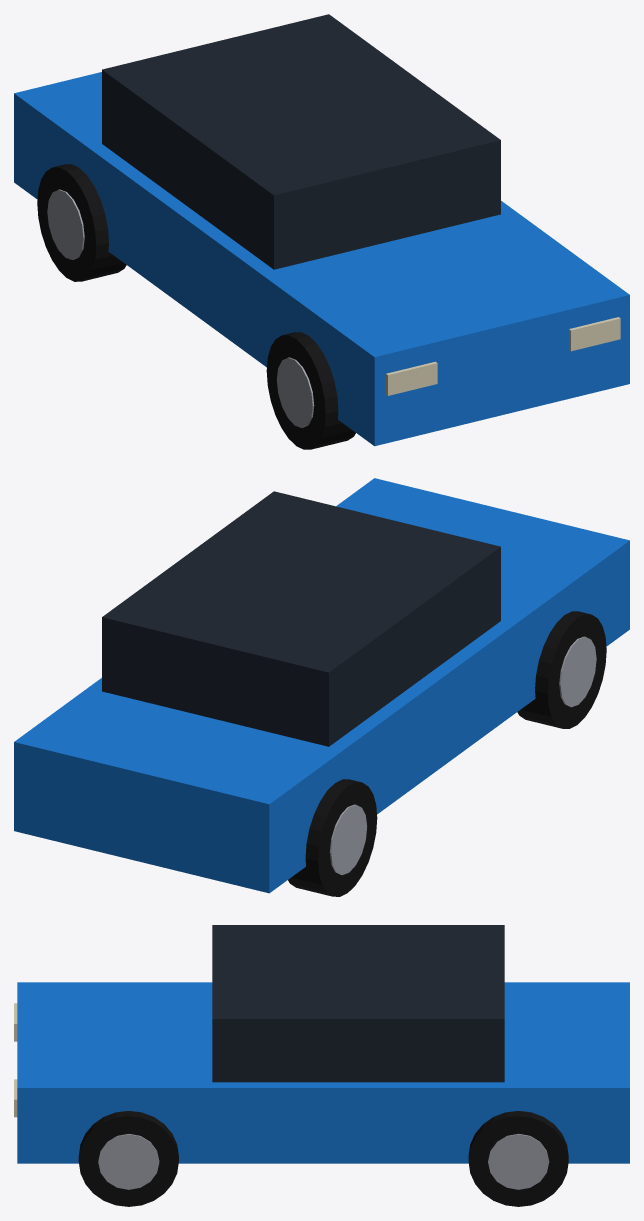
The model's file is vehicule_test.obj.
3 renders of one model, top to bottom at view 1: azimuth 30°, elevation 25°; view 2: azimuth 150°, elevation 25°; view 3: azimuth 270°, elevation 25°, orthographic. The views are drawn at different scales.
Parts seen in each view (by area): view 1: geometry_0, geometry_1, geometry_6, geometry_10, geometry_11, geometry_7, geometry_2, geometry_3; view 2: geometry_0, geometry_1, geometry_10, geometry_6, geometry_7, geometry_11; view 3: geometry_0, geometry_1, geometry_4, geometry_8, geometry_9, geometry_5.
Part boxes in pixels (left/top/right/bottom): geometry_0: left=14, top=72, right=629, bottom=446; geometry_1: left=102, top=14, right=500, bottom=269; geometry_6: left=266, top=332, right=355, bottom=449; geometry_10: left=37, top=164, right=126, bottom=281; geometry_11: left=47, top=189, right=84, bottom=259; geometry_7: left=276, top=357, right=314, bottom=427; geometry_2: left=569, top=317, right=620, bottom=351; geometry_3: left=386, top=361, right=437, bottom=395; geometry_0: left=14, top=478, right=629, bottom=893; geometry_1: left=102, top=491, right=500, bottom=746; geometry_10: left=288, top=779, right=377, bottom=896; geometry_6: left=517, top=611, right=606, bottom=728; geometry_7: left=559, top=636, right=596, bottom=707; geometry_11: left=329, top=804, right=367, bottom=875; geometry_0: left=17, top=982, right=629, bottom=1163; geometry_1: left=212, top=925, right=504, bottom=1082; geometry_4: left=78, top=1111, right=178, bottom=1206; geometry_8: left=468, top=1111, right=568, bottom=1206; geometry_9: left=488, top=1133, right=549, bottom=1189; geometry_5: left=98, top=1134, right=159, bottom=1189.
Size of the model in its own units: 2 by 1.4 by 4.42.
